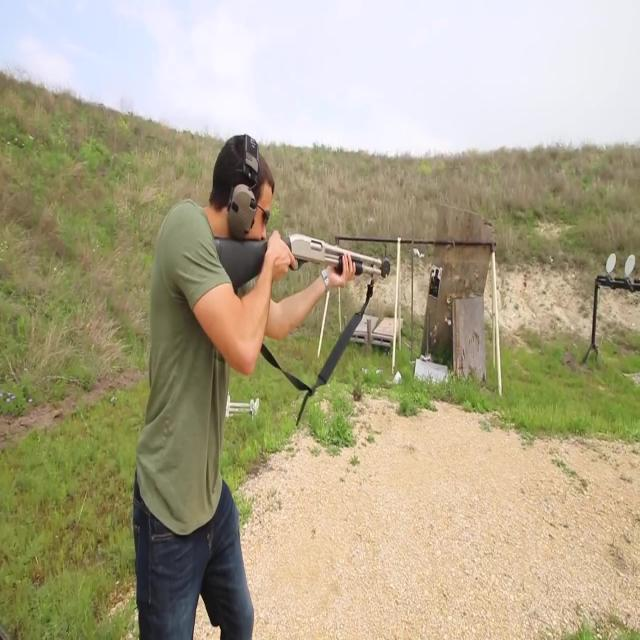Weapon: (210, 218, 392, 332)
